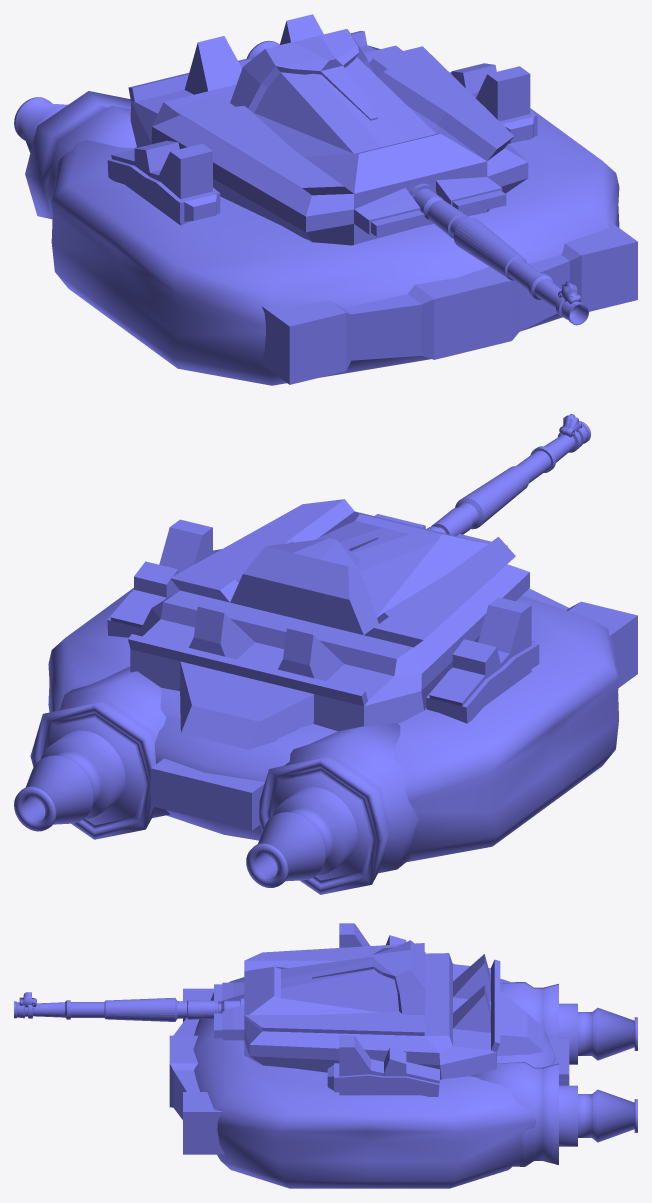
The model's file is tankuv2.obj.
3 renders of one model, top to bottom at view 1: azimuth 30°, elevation 25°; view 2: azimuth 150°, elevation 25°; view 3: azimuth 270°, elevation 25°, orthographic. The views are drawn at different scales.
Visible parts, largest first — view 1: Cylinder.001_Cylinder.002; view 2: Cylinder.001_Cylinder.002; view 3: Cylinder.001_Cylinder.002.
Part boxes in pixels (x1,y1,x2,y2): Cylinder.001_Cylinder.002: (14,14,637,385); Cylinder.001_Cylinder.002: (14,414,637,894); Cylinder.001_Cylinder.002: (14,923,637,1188).
Bounding box in the file's own units: 4.47 × 2.27 × 7.48.
